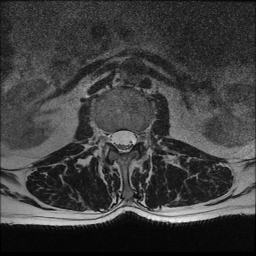CCS_normal: (119, 121, 127, 159)
LFS_normal: (137, 123, 146, 152)
LLS_normal: (127, 122, 137, 155)
RFS_normal: (101, 121, 109, 151)
RLS_normal: (109, 122, 119, 152)
